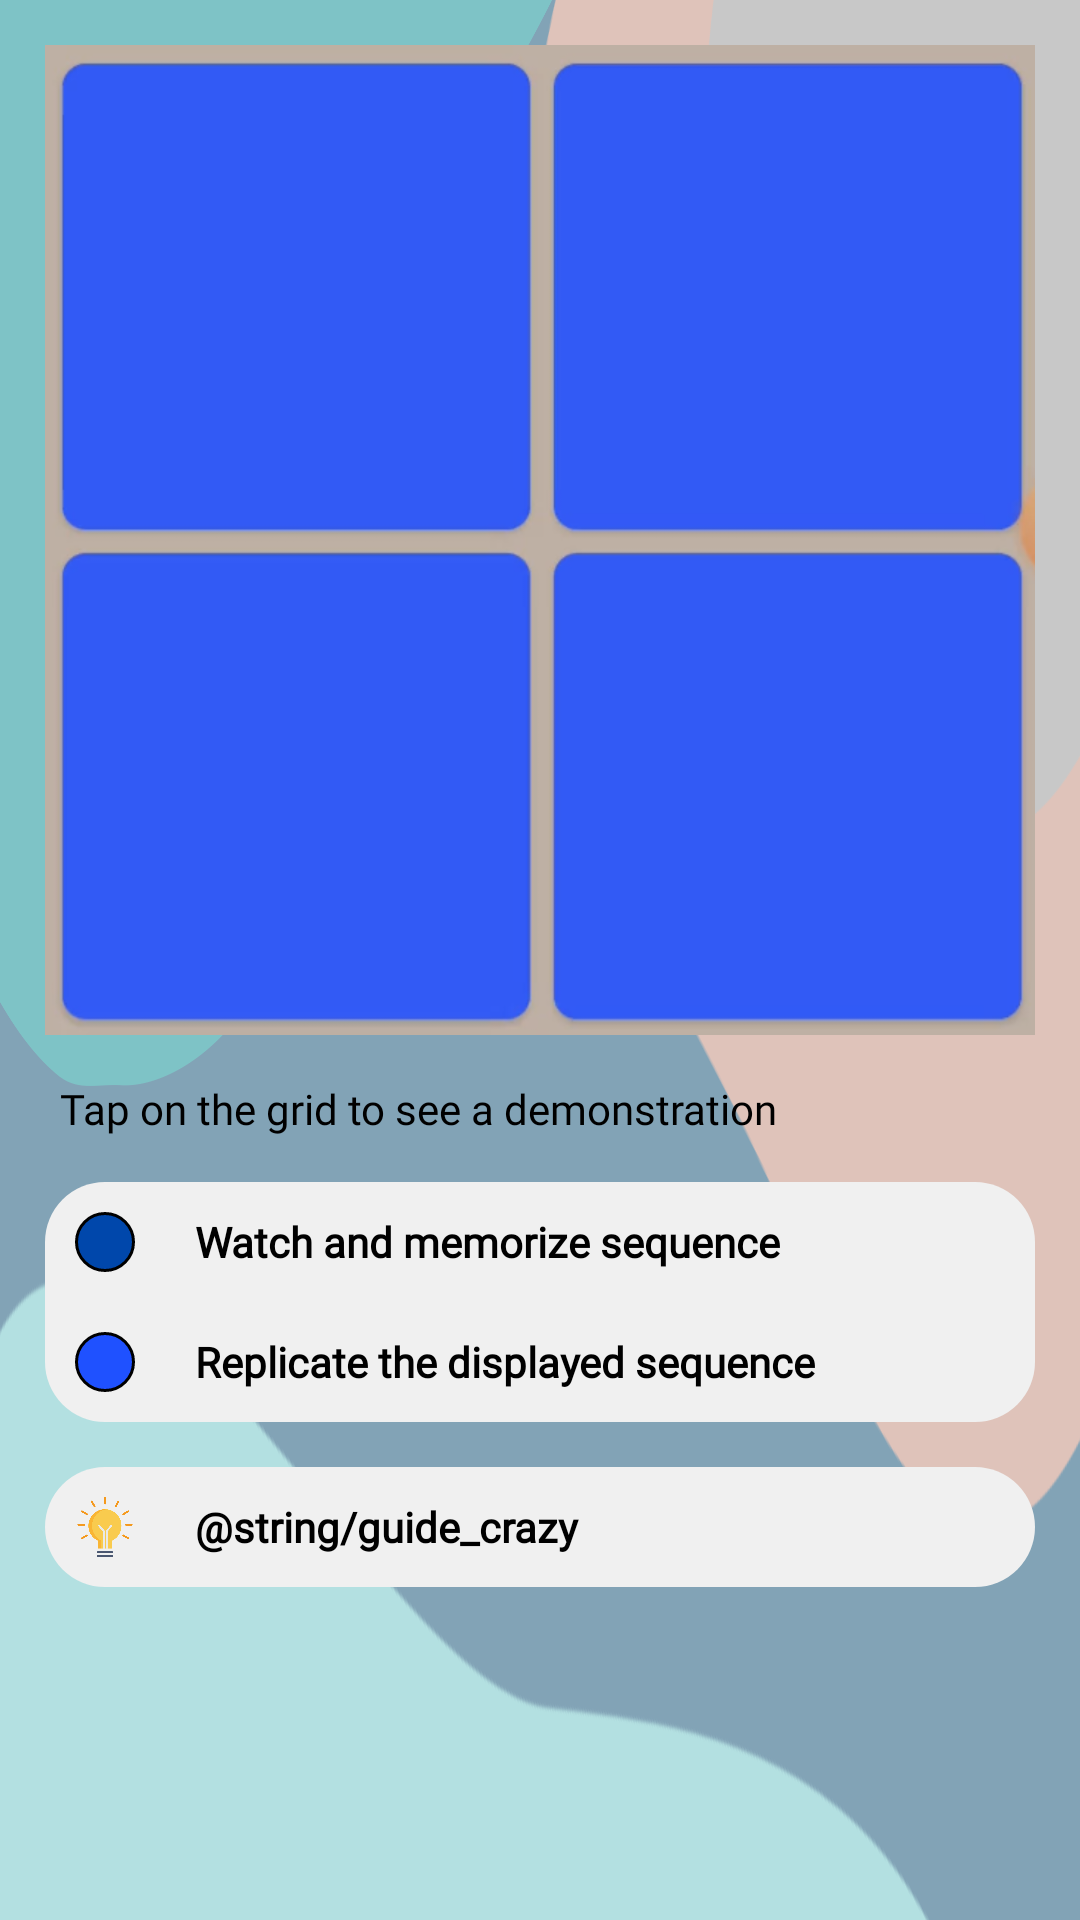

Icon bounding boxes for this 1080px x 1920px phone screenshot, format (x1, y1, x2, y2):
light bulb (hint) icon: (77, 1497, 133, 1557)
